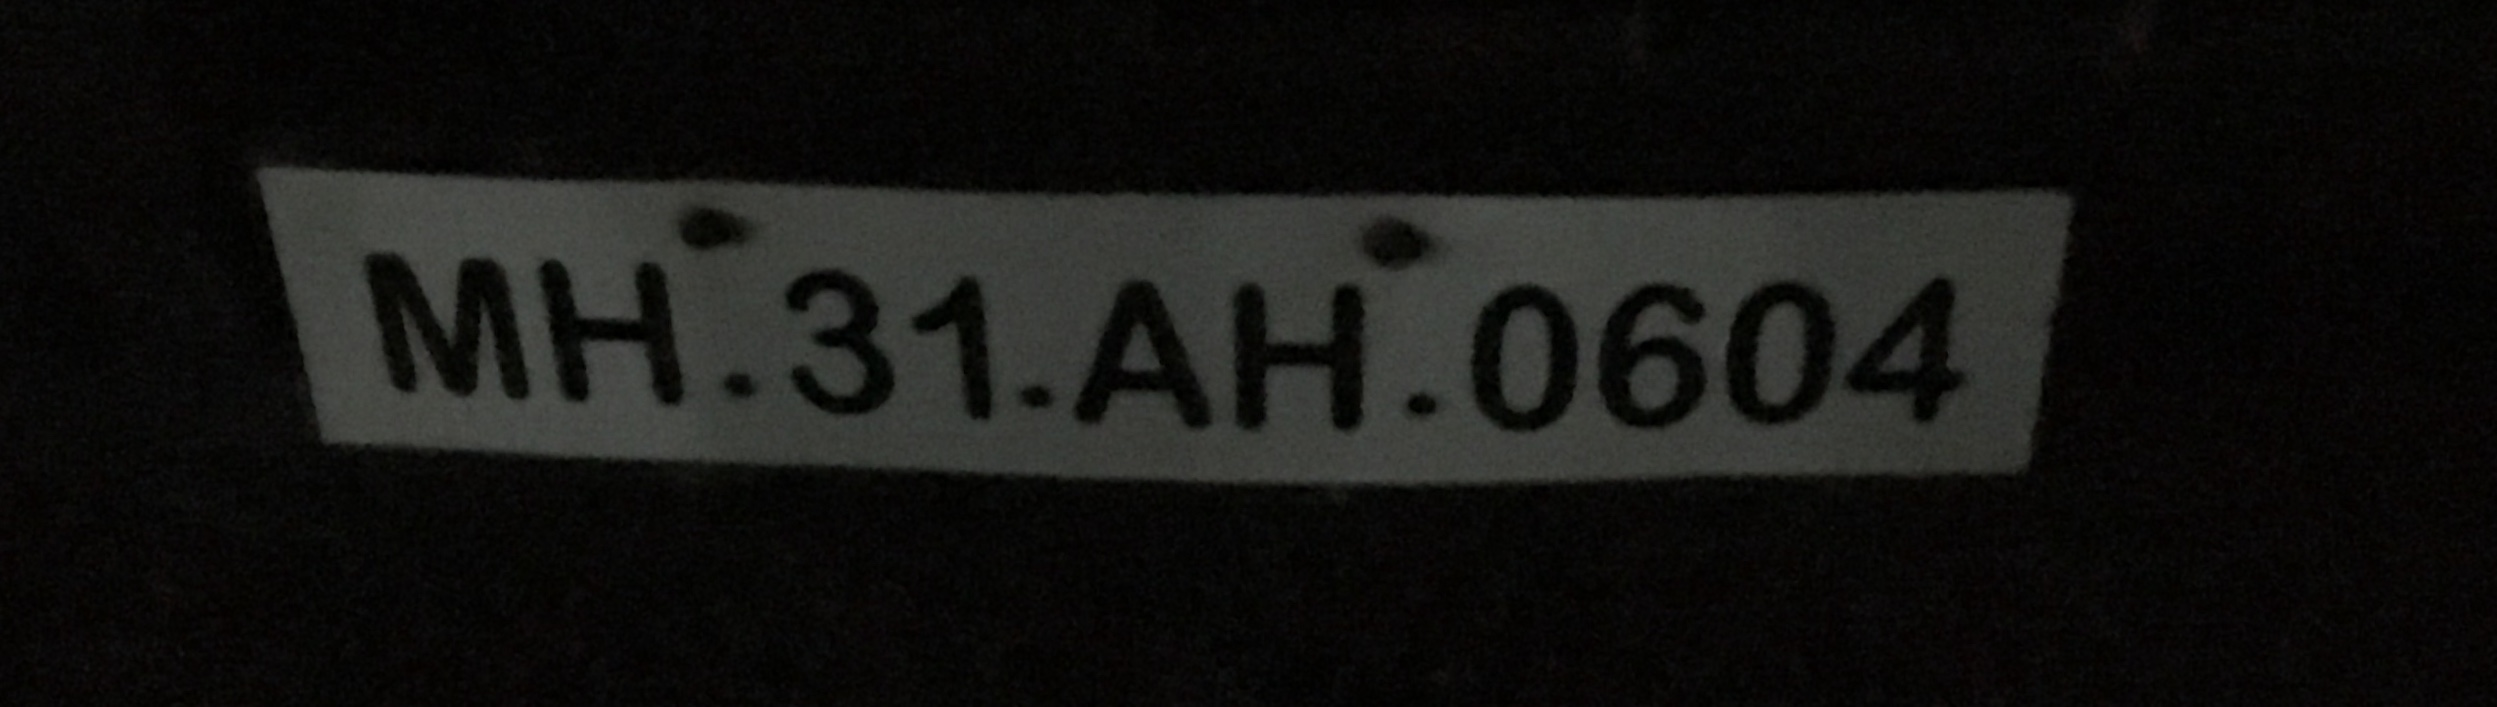numberplate: (240, 157, 2080, 485)
